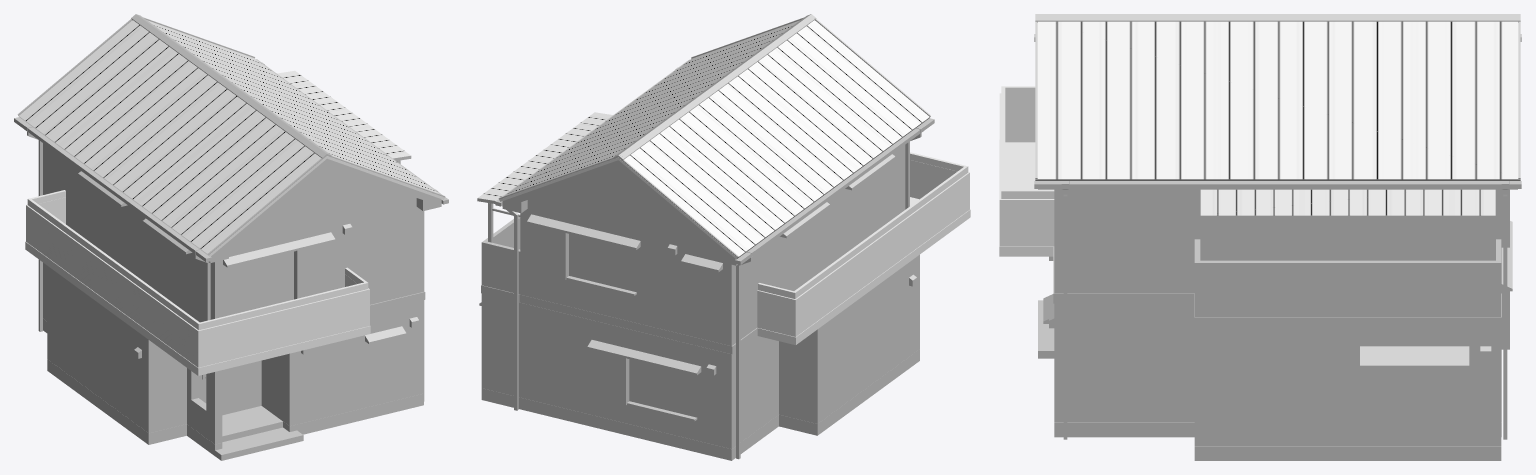
The model's file is House_2021_A.fbx.
The picture shows the model from 3 angles, left to right: view 1: azimuth 30°, elevation 25°; view 2: azimuth 150°, elevation 25°; view 3: azimuth 270°, elevation 25°; orthographic projection. The views are drawn at different scales.
Visible parts, largest first — view 1: House_2021_A; view 2: House_2021_A; view 3: House_2021_A.
Part boxes in pixels (x1,y1,x2,y2): House_2021_A: (14, 14, 448, 460); House_2021_A: (477, 14, 970, 460); House_2021_A: (999, 14, 1521, 460).
Size of the model in its own units: 815 by 722 by 954.
